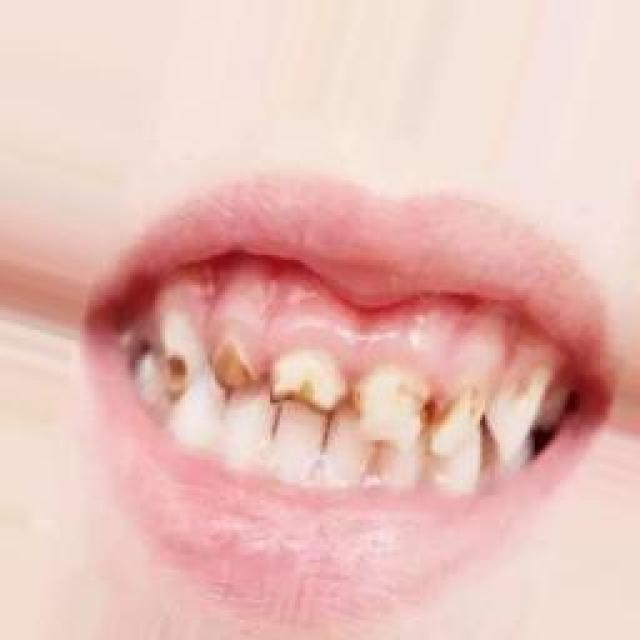caries: (202, 350, 250, 395), (410, 397, 453, 435), (273, 380, 326, 408), (160, 357, 190, 395)
